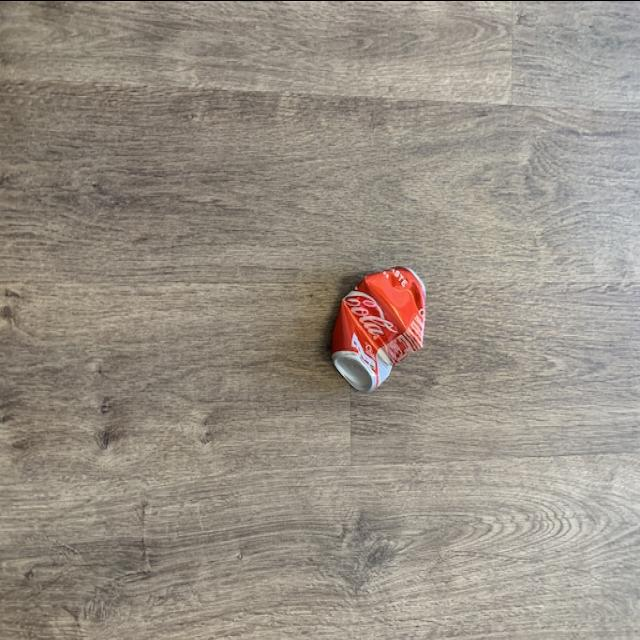Aluminum Can: (326, 263, 436, 395)
